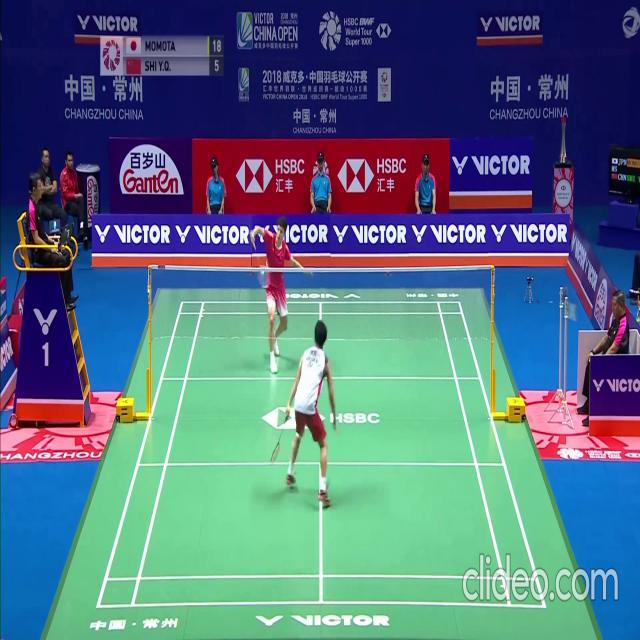Shuttlecock: (259, 266, 264, 274)
